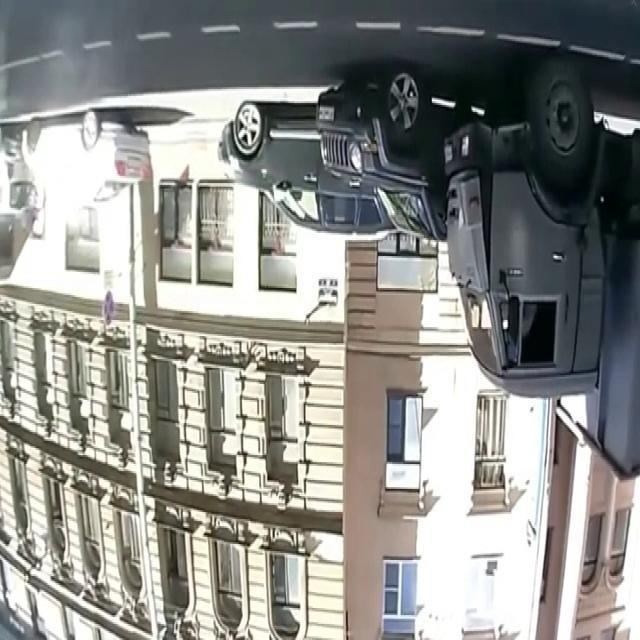moderate: (313, 55, 640, 505)
